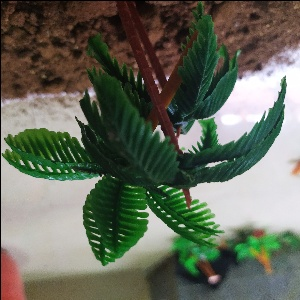plant: (6, 1, 291, 264)
